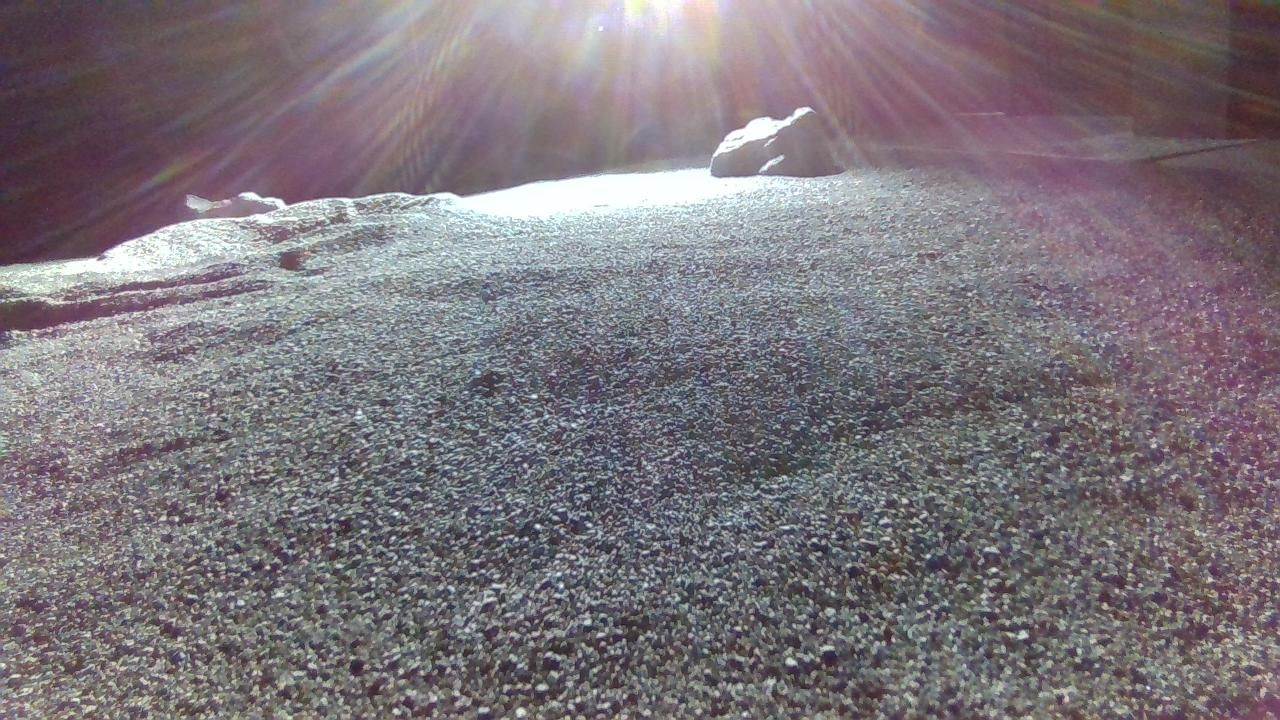rock: (711, 105, 842, 176), (177, 191, 284, 218)
